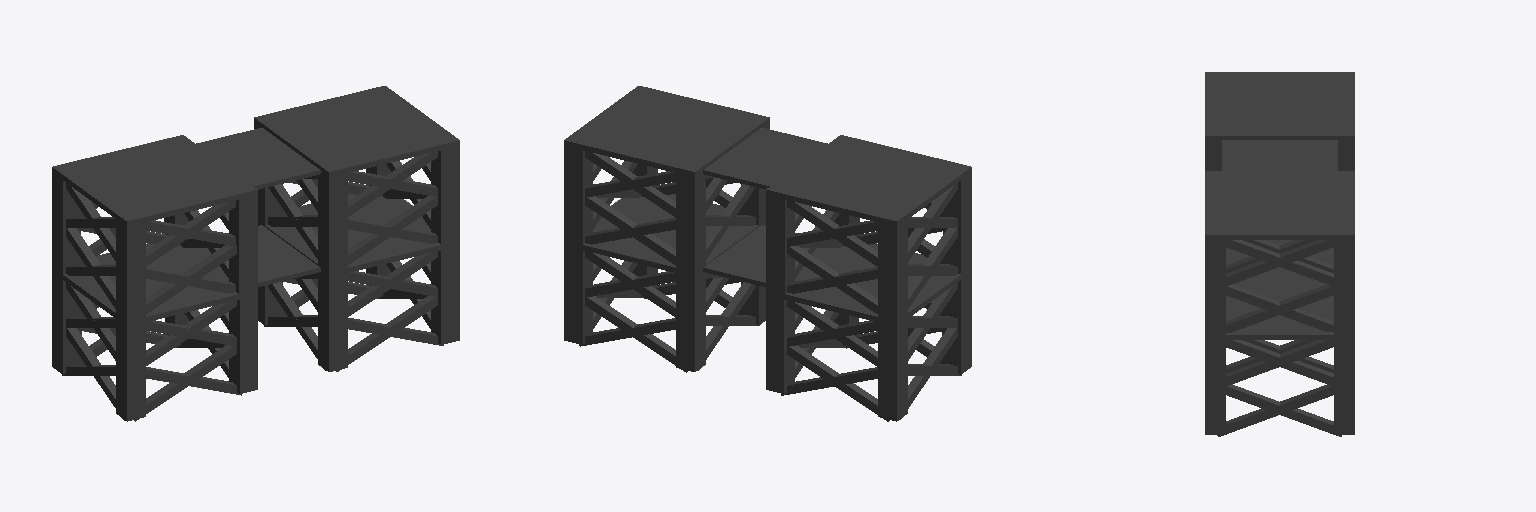
Rendered from structure.obj.
3 views of the same model, side by side, from view 1: azimuth 30°, elevation 25°; view 2: azimuth 150°, elevation 25°; view 3: azimuth 270°, elevation 25° (orthographic).
Visible parts, largest first — view 1: Cube.007_Cube.005; view 2: Cube.007_Cube.005; view 3: Cube.007_Cube.005.
Part boxes in pixels (x1,y1,x2,y2): Cube.007_Cube.005: (52,86,459,421); Cube.007_Cube.005: (564,86,971,421); Cube.007_Cube.005: (1205,72,1354,436).
Size of the model in its own units: 9.46 by 5.56 by 3.69.